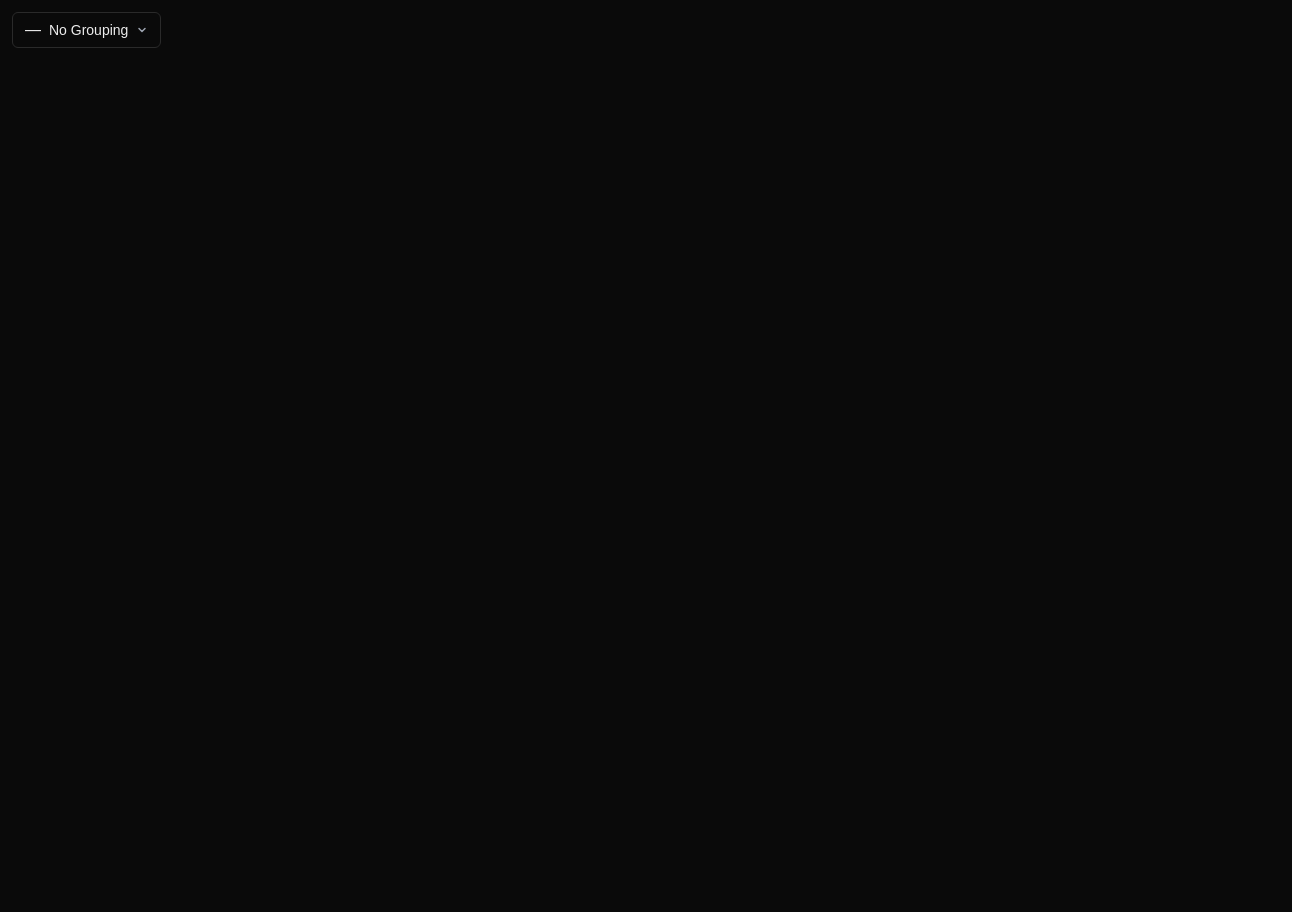
Test case: GroupSelector › closes dropdown when clicking outside
Click the button with aria-label "group by options".
click(87, 30)  # box [12,12,161,48]
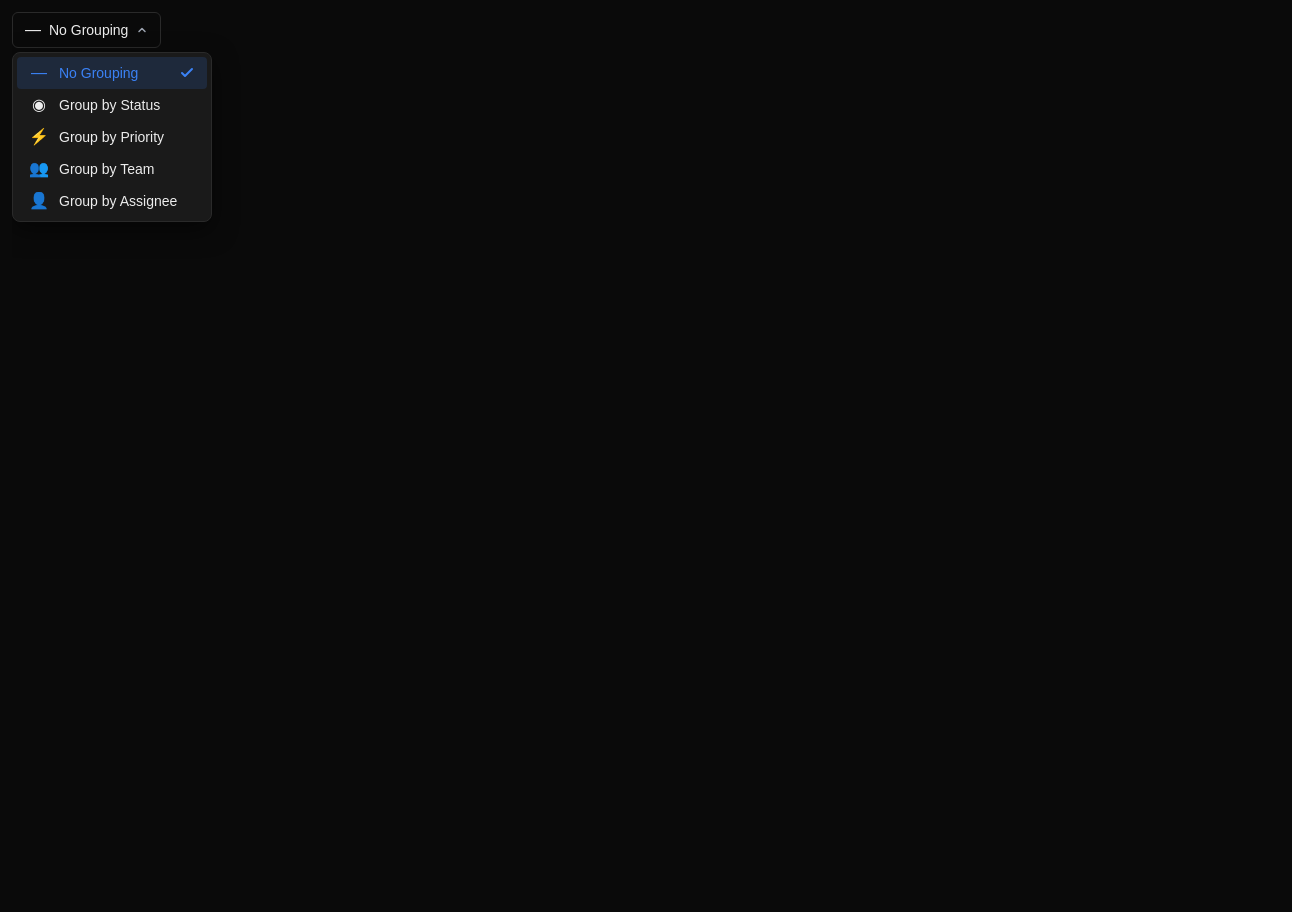
Now the list is shown, box [12,52,212,222]
Click outside
Press the mouse on the element that starts with "No Grouping" at coordinates (652, 462), box [12,12,1291,911]
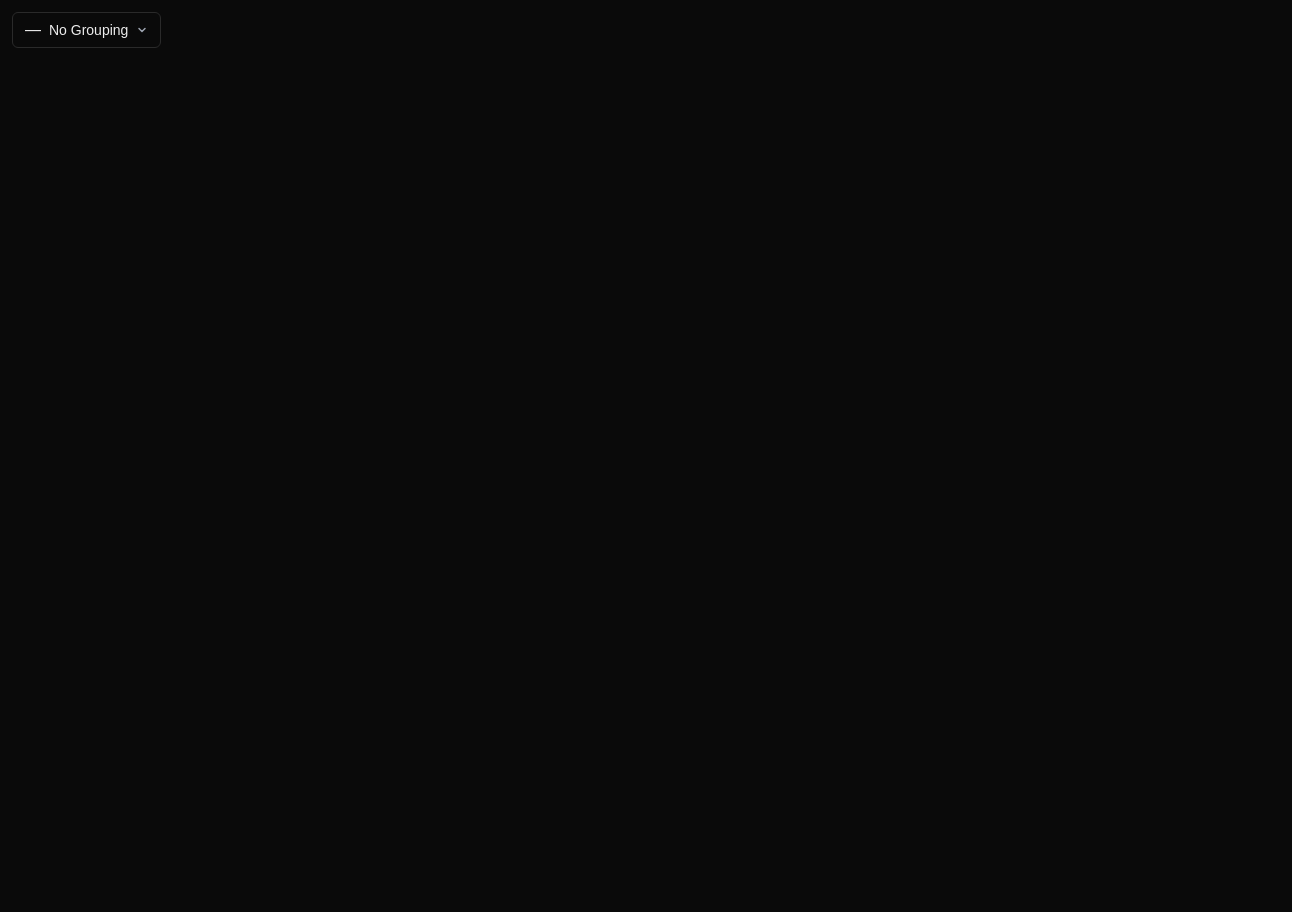
Now the list is gone
